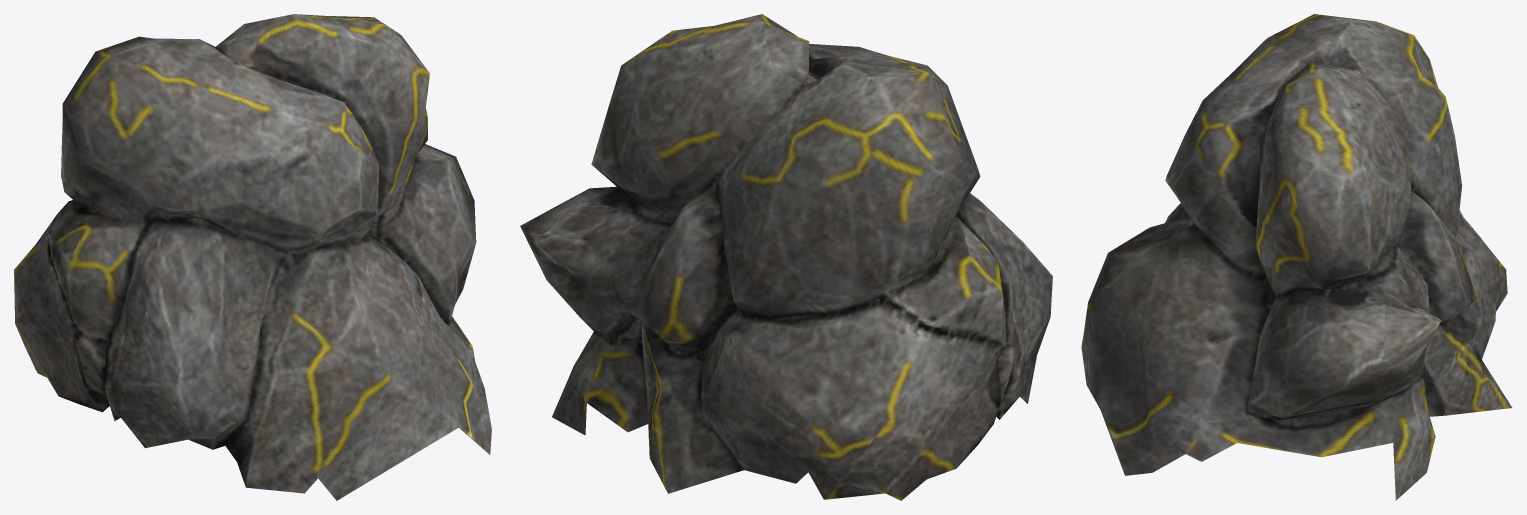
Rendered from mine_metal_temperate_small.glb.
3 renders of one model, left to right at view 1: azimuth 30°, elevation 25°; view 2: azimuth 150°, elevation 25°; view 3: azimuth 270°, elevation 25°, orthographic. The views are drawn at different scales.
Parts seen in each view (by area): view 1: mine_metal_temperate_small_part0; view 2: mine_metal_temperate_small_part0; view 3: mine_metal_temperate_small_part0.
Boxes of the visible parts, bbox=[...] form: mine_metal_temperate_small_part0: bbox=[14, 14, 491, 500]; mine_metal_temperate_small_part0: bbox=[520, 14, 1052, 500]; mine_metal_temperate_small_part0: bbox=[1081, 14, 1512, 500].
Size of the model in its own units: 2.15 by 1.89 by 2.02.
1 material, 1 textured.
